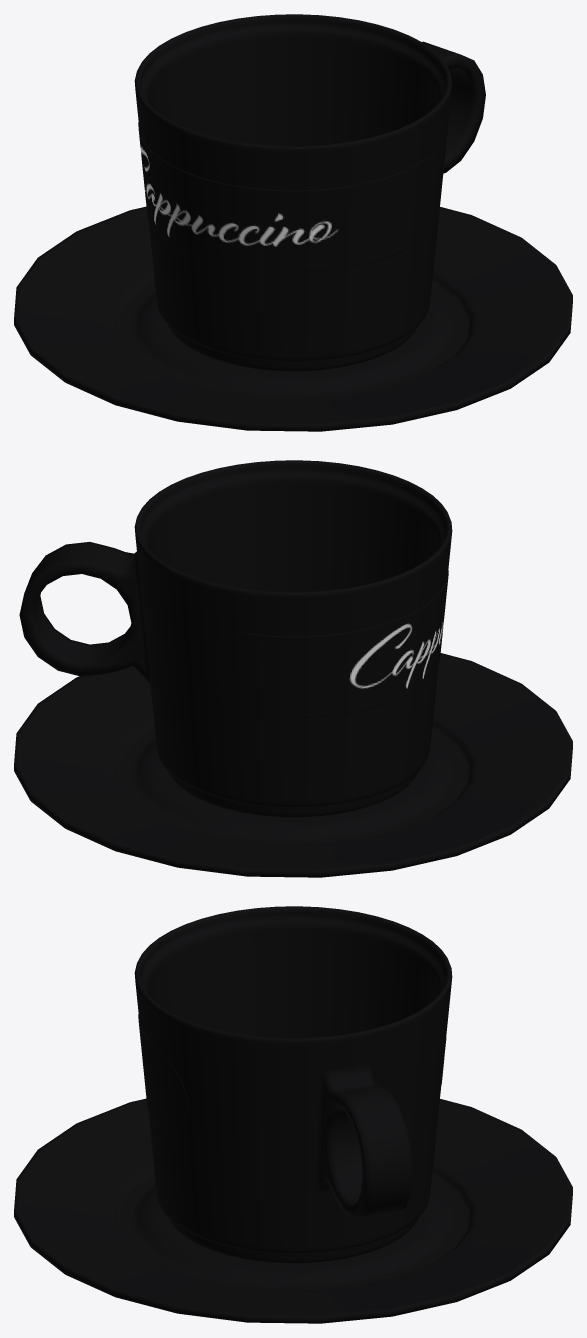
The model's file is Cappuccino_Mug.glb.
3 views of the same model, one above another, from view 1: azimuth 30°, elevation 25°; view 2: azimuth 150°, elevation 25°; view 3: azimuth 270°, elevation 25° (orthographic).
Parts seen in each view (by area): view 1: Mug, Plate; view 2: Mug, Plate; view 3: Mug, Plate.
Boxes of the visible parts, x1=… form: Mug: x1=134, y1=14, x2=485, y2=371; Plate: x1=14, y1=206, x2=572, y2=431; Mug: x1=19, y1=460, x2=452, y2=817; Plate: x1=14, y1=653, x2=572, y2=877; Mug: x1=134, y1=906, x2=452, y2=1263; Plate: x1=14, y1=1098, x2=572, y2=1323.
Bounding box in the file's own units: 0.079 × 0.0387 × 0.079.
1 material, 1 textured.
